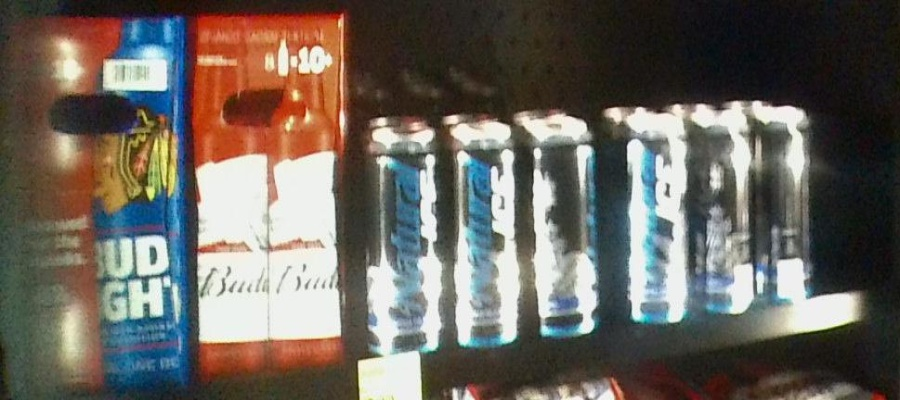bottle: (1, 19, 194, 388), (190, 7, 349, 372), (362, 118, 598, 342), (624, 114, 810, 323)
